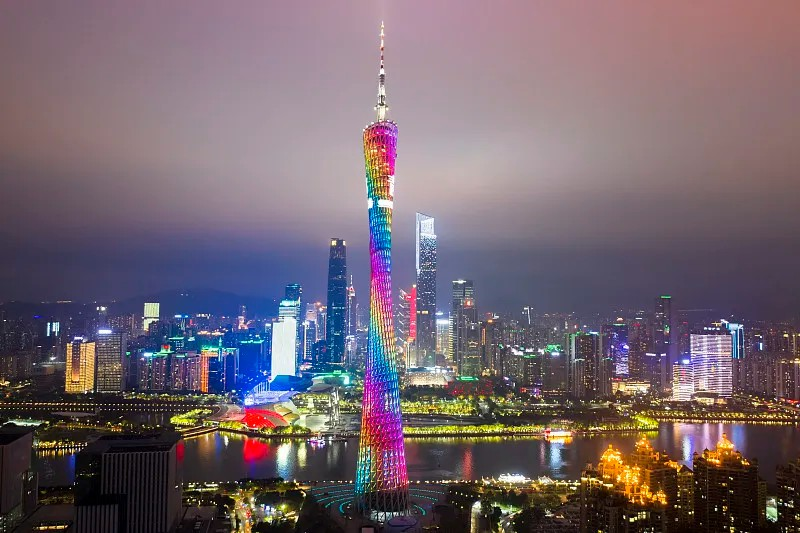Canton: (350, 19, 417, 518)
